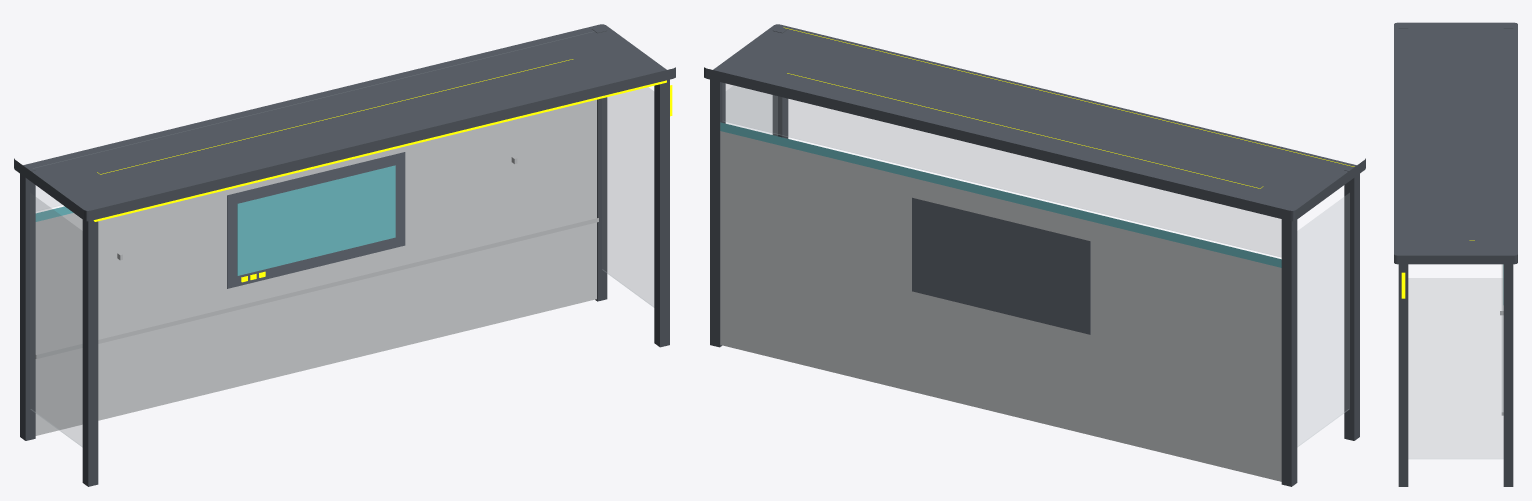
The model's file is ext_tram_shelter_04.glb.
3 renders of one model, left to right at view 1: azimuth 30°, elevation 25°; view 2: azimuth 150°, elevation 25°; view 3: azimuth 270°, elevation 25°, orthographic. The views are drawn at different scales.
Parts seen in each view (by area): view 1: Wall_Cladding, Roof, Side_Glass, Posts, Timetable_Screen, Timetable_Frame, Lean_Rail, Edge_Glow; view 2: Wall_Cladding, Roof, Clerestory_Glass, Timetable_Frame, Side_Glass, Posts, Civic_Band; view 3: Roof, Side_Glass, Posts, Lean_Rail.
Part boxes in pixels (x1,y1,x2,y2): Wall_Cladding: (35, 99, 596, 435); Roof: (14, 24, 675, 221); Side_Glass: (30, 87, 653, 446); Posts: (20, 29, 669, 486); Timetable_Screen: (237, 165, 395, 275); Timetable_Frame: (227, 152, 405, 288); Lean_Rail: (35, 218, 598, 358); Edge_Glow: (93, 80, 666, 221); Wall_Cladding: (720, 131, 1281, 481); Roof: (704, 24, 1365, 221); Clerestory_Glass: (722, 83, 1281, 256); Timetable_Frame: (912, 197, 1090, 334); Side_Glass: (726, 86, 1349, 446); Posts: (710, 29, 1359, 486); Civic_Band: (720, 122, 1281, 267); Roof: (1394, 22, 1517, 264); Side_Glass: (1408, 278, 1503, 458); Posts: (1398, 28, 1513, 486); Lean_Rail: (1501, 264, 1503, 415).
Size of the model in its own units: 6 by 2.7 by 1.3.
